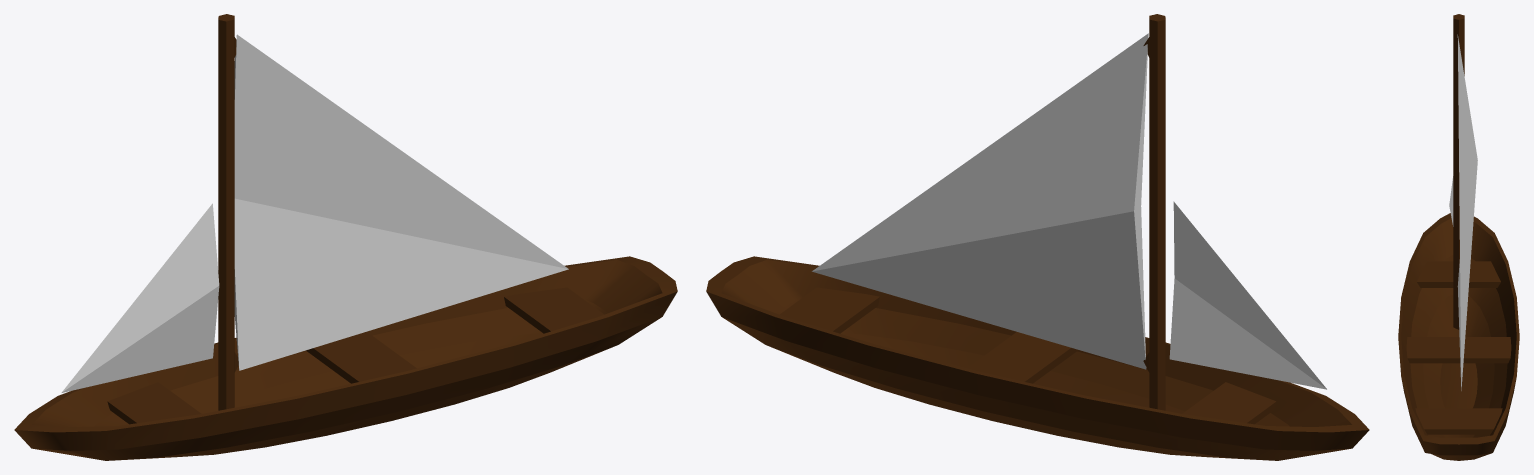
The model's file is sailboat.fbx.
The picture shows the model from 3 angles, left to right: view 1: azimuth 30°, elevation 25°; view 2: azimuth 150°, elevation 25°; view 3: azimuth 270°, elevation 25°; orthographic projection. The views are drawn at different scales.
Parts seen in each view (by area): view 1: pPyramid3, pSphere2; view 2: pPyramid3, pSphere2; view 3: pSphere2, pPyramid3.
Part boxes in pixels (bbox=[...]): pPyramid3: bbox=[61, 14, 568, 410]; pSphere2: bbox=[14, 256, 677, 460]; pPyramid3: bbox=[812, 14, 1326, 410]; pSphere2: bbox=[706, 256, 1369, 460]; pSphere2: bbox=[1398, 213, 1519, 460]; pPyramid3: bbox=[1449, 14, 1477, 390].
Size of the model in its own units: 9.19 by 5.79 by 2.
